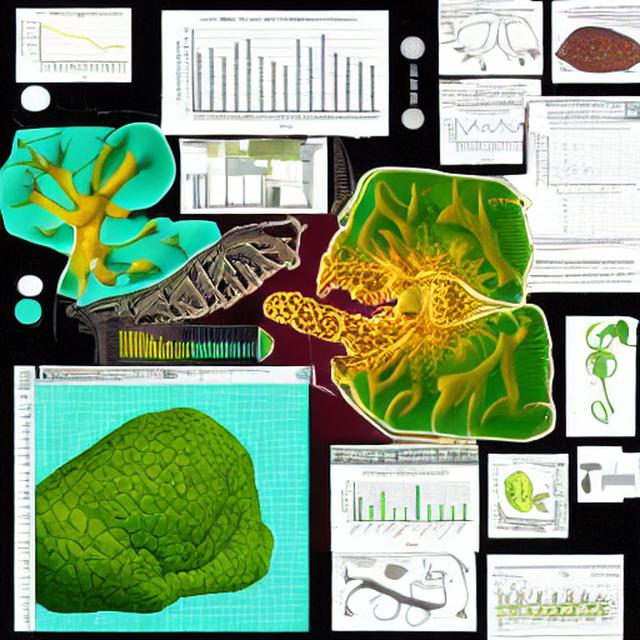Graph: (170, 13, 383, 133), (336, 467, 474, 550), (18, 10, 130, 80), (532, 124, 640, 196), (445, 108, 522, 162), (110, 322, 184, 366)
